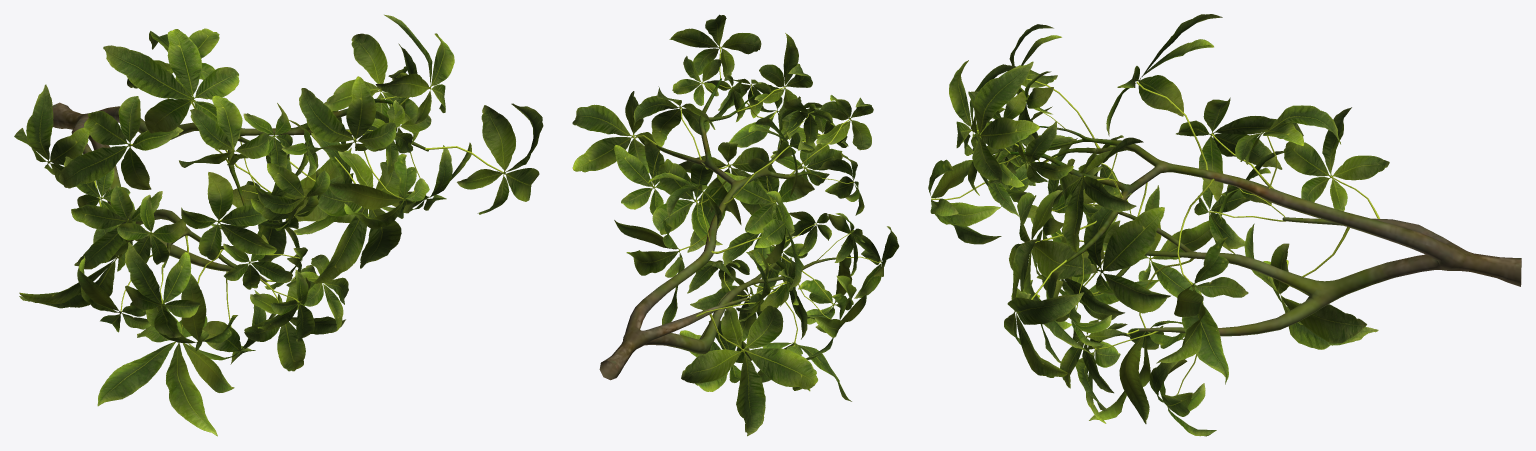
File: money_tree.obj
3 views of the same model, side by side, from view 1: azimuth 30°, elevation 25°; view 2: azimuth 150°, elevation 25°; view 3: azimuth 270°, elevation 25° (orthographic). The views are drawn at different scales.
Visible parts, largest first — view 1: leaves, bark; view 2: leaves, bark; view 3: leaves, bark.
Part boxes in pixels (x1,y1,x2,y2): leaves: (14, 14, 543, 436); bark: (52, 98, 428, 282); leaves: (572, 14, 899, 436); bark: (599, 78, 836, 380); leaves: (928, 14, 1389, 436); bark: (1008, 126, 1521, 336).
Size of the model in its own units: 0.9753 by 0.9237 by 1.15.
2 materials, 2 textured.
